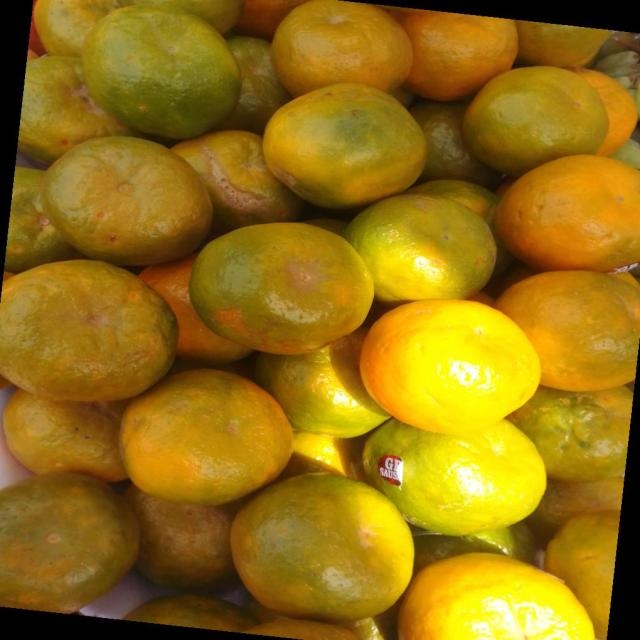agrume: (2, 0, 638, 637), (215, 454, 428, 623), (473, 256, 640, 408), (359, 297, 541, 435), (3, 259, 176, 404), (393, 527, 612, 640), (190, 224, 372, 354), (120, 371, 289, 507), (42, 136, 211, 267), (83, 5, 240, 141), (263, 84, 425, 207), (1, 473, 138, 613), (488, 373, 640, 495), (495, 154, 637, 274), (344, 195, 497, 304), (465, 65, 609, 174), (13, 38, 126, 167), (271, 0, 413, 98), (174, 131, 301, 238), (139, 254, 257, 363), (5, 390, 131, 484), (389, 9, 517, 99)
